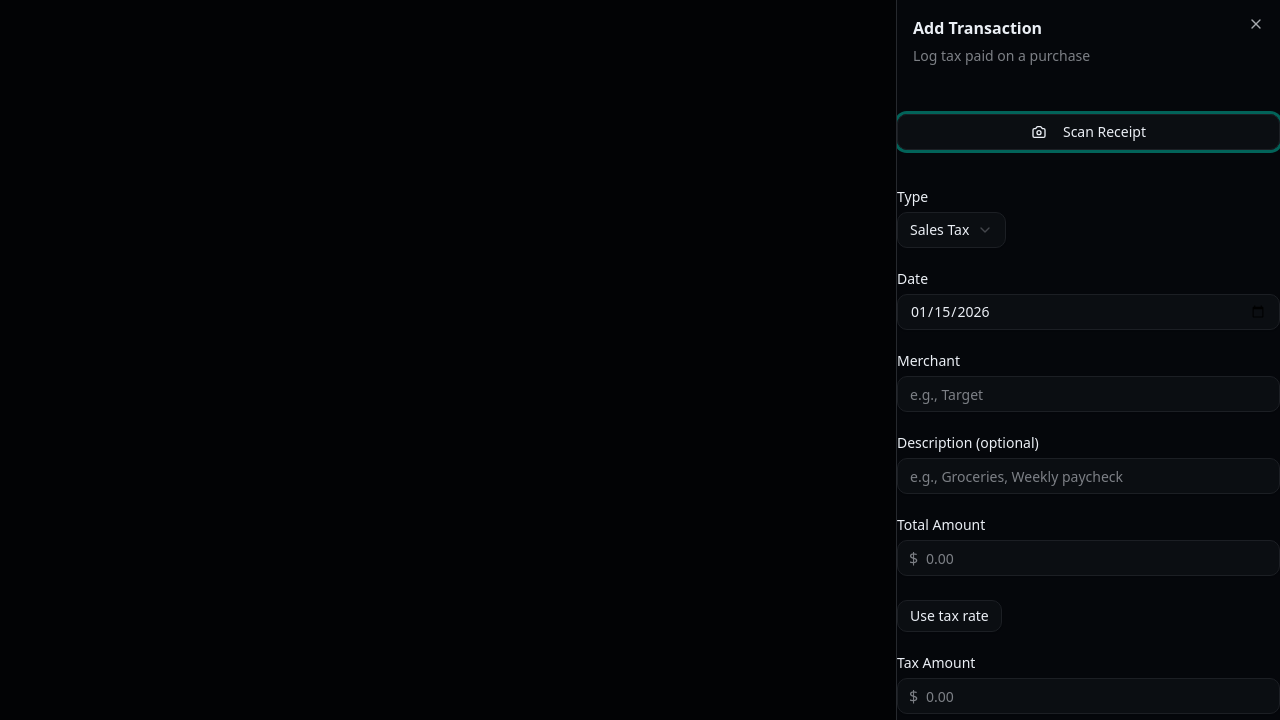
Test: TransactionForm › calculates tax amount when using tax rate
The image size is (1280, 720).
// Enter total amount
Step 1. Type "100" into the number field labelled "Total Amount" → (1088, 558), box [897, 540, 1279, 576]
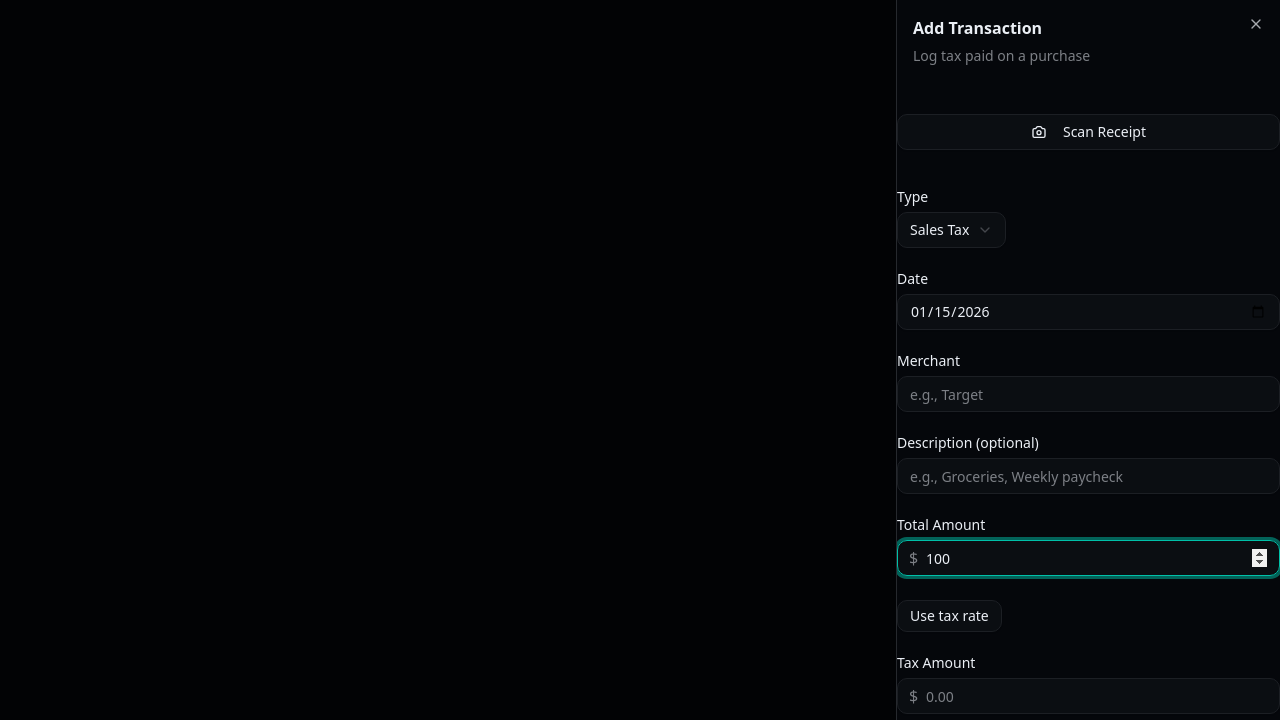
// Click "Use tax rate" button
Step 2. Click the button "Use tax rate" → (949, 616), box [897, 600, 1002, 632]
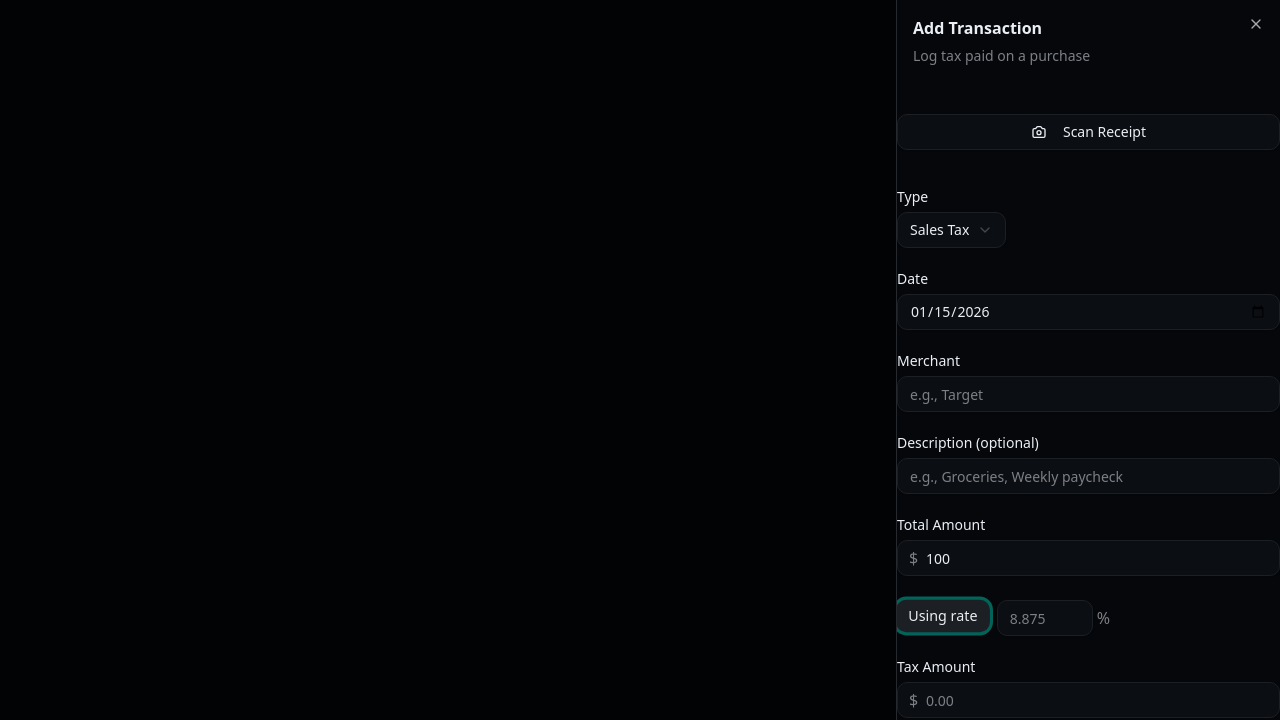
// Enter tax rate
Step 3. Type "10" into the number field with placeholder "8.875" → (1045, 618), box [997, 600, 1093, 636]
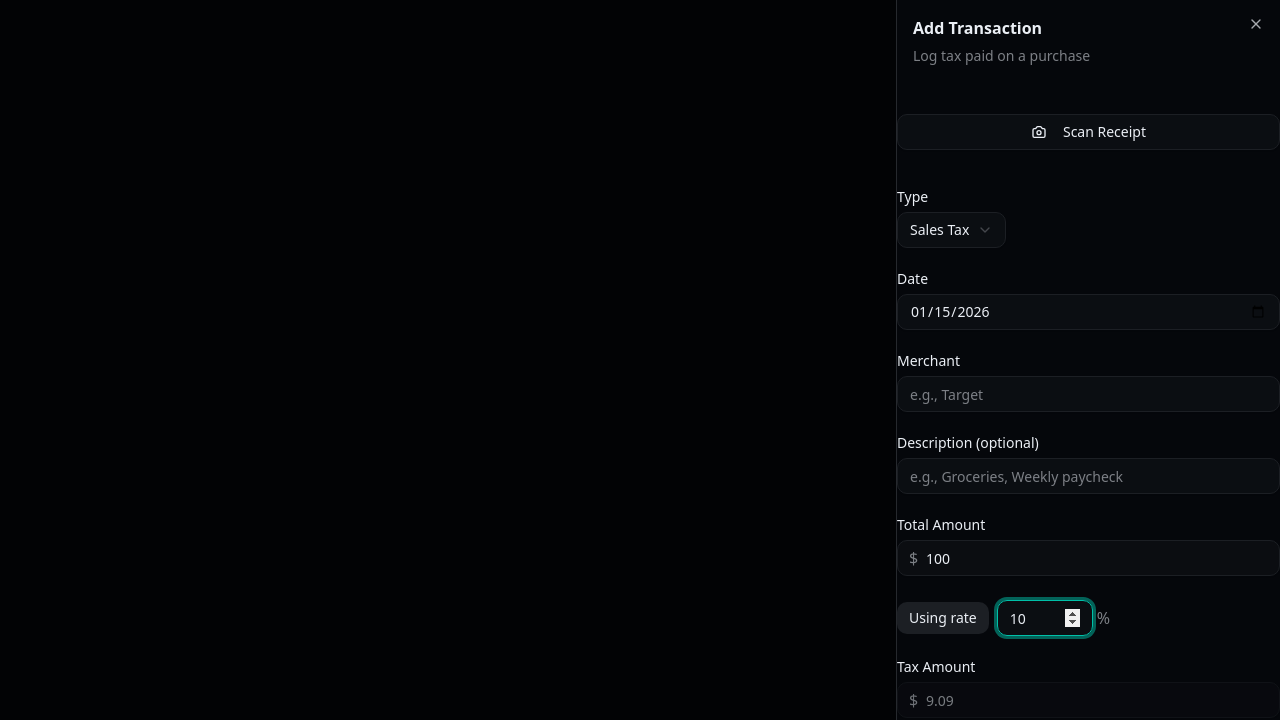
Expected: the number field labelled "Tax Amount" holds "9.09", [897, 682, 1279, 718]
